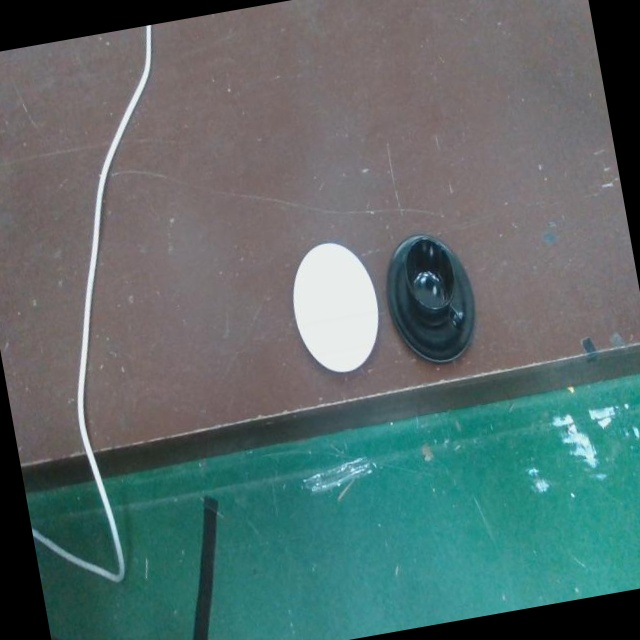black: (385, 231, 476, 369)
white: (292, 238, 378, 377)
